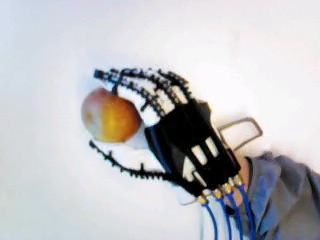apple: (81, 86, 142, 143)
hand: (91, 68, 243, 205)
